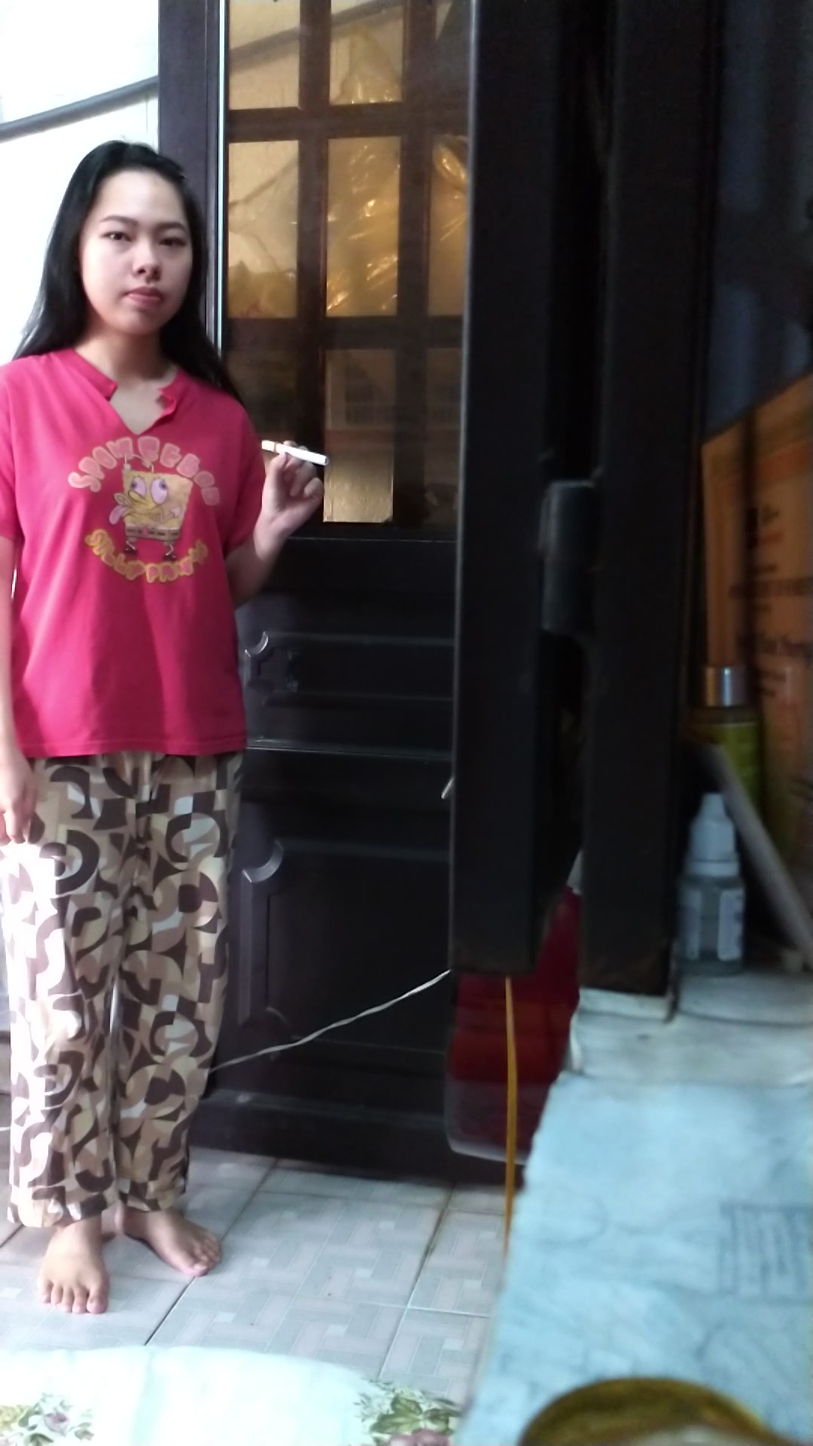cigarette: (257, 436, 332, 470)
person: (0, 138, 351, 1320)
